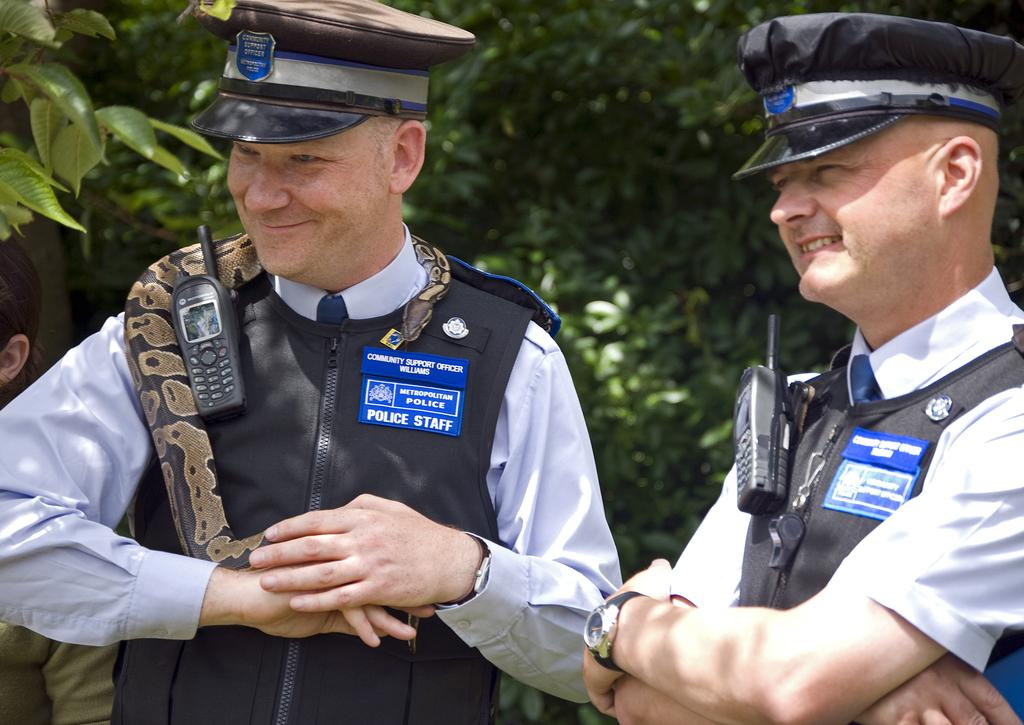Hat: (732, 11, 1024, 175), (189, 0, 479, 142)
